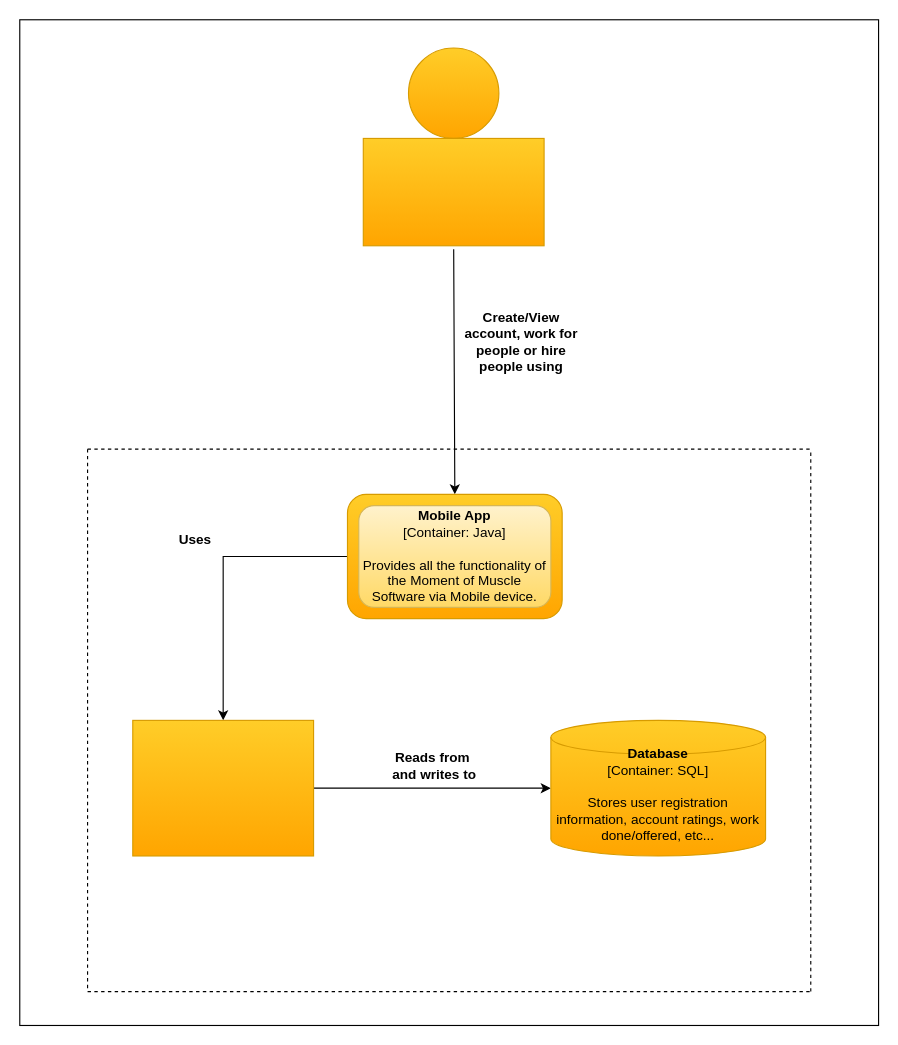
This 898x1045 diagram has some shape labels left out. Here are the shapes that lost their labels. From the top down, the centre of each, then its label:
point 453,191: Moment of Muscle User [Person] Create an account, being able to work or hire
point 223,787: Firebase Library [Container: Java] Provides Access to the database.
